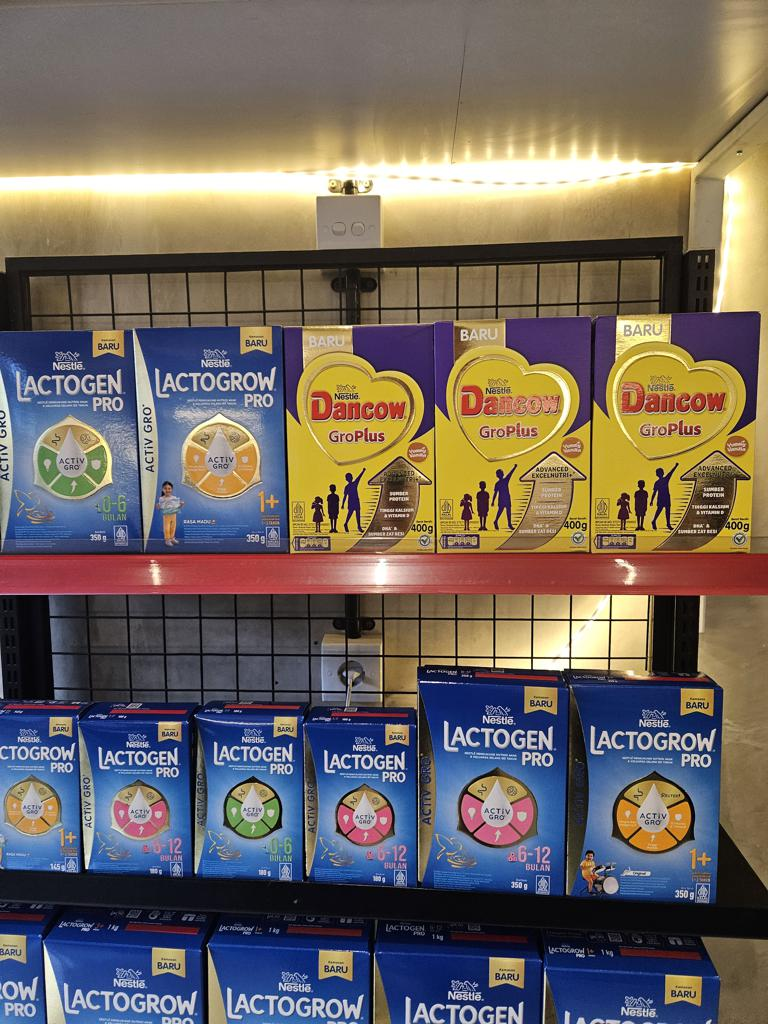LACTOGEN PRO 0-6 mo 24x350g ID: (2, 328, 144, 555)
LACTOGEN PRO 0-6 mo 40x180g ID: (186, 712, 310, 881)
LACTOGEN PRO 6-12 mo 24x350g ID: (416, 682, 565, 890)
LACTOGEN PRO 6-12 mo 40x180g ID: (302, 719, 419, 885), (76, 718, 193, 873)
LACTOGROW PRO 1+ Honey 24x350g ID: (132, 321, 293, 555)
